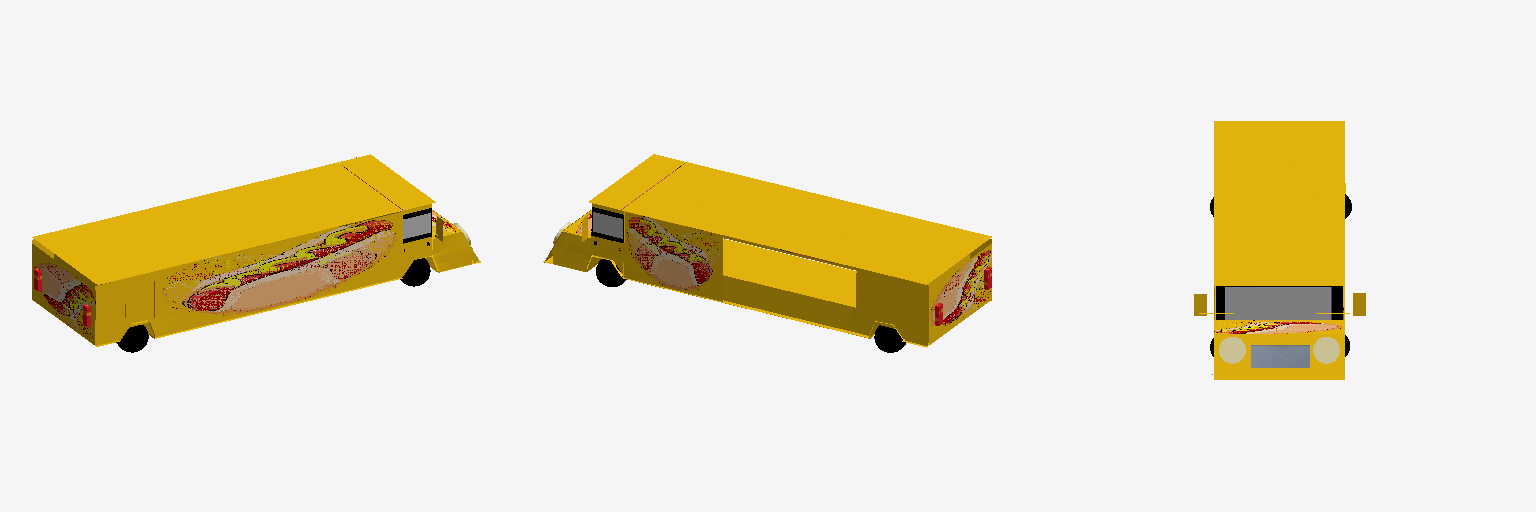
The picture shows the model from 3 angles: view 1: azimuth 30°, elevation 25°; view 2: azimuth 150°, elevation 25°; view 3: azimuth 270°, elevation 25°; orthographic projection.
Visible parts, largest first — view 1: Box015, Box010, Box049, Box046, Box028, Box042, Box027, Box048, Sphere004, Sphere002; view 2: Box015, Box054, Box001, Box049, Box011, Box046, Box041, Box028, Box026, Box047, Sphere005, Box036 (+1 smaller); view 3: Box015, Box021, Box049, Box025, Box028, Box024, Box050, Cylinder001, Cylinder002.
Boxes of the visible parts, box(x1,y1,x2,y2) form: Box015: box(91, 162, 402, 270); Box010: box(156, 212, 402, 336); Box049: box(32, 223, 155, 284); Box046: box(32, 244, 95, 344); Box028: box(338, 154, 435, 209); Box042: box(113, 268, 166, 327); Box027: box(401, 204, 431, 259); Box048: box(95, 280, 118, 345); Sphere004: box(116, 325, 148, 352); Sphere002: box(400, 258, 430, 286); Box015: box(622, 162, 933, 269); Box054: box(624, 212, 722, 301); Box001: box(622, 239, 868, 337); Box049: box(868, 223, 991, 284); Box011: box(639, 275, 870, 338); Box046: box(929, 244, 991, 344); Box041: box(856, 268, 912, 332); Box028: box(589, 154, 685, 209); Box026: box(591, 203, 623, 262); Box047: box(905, 282, 928, 345); Sphere005: box(874, 325, 905, 352); Box036: box(553, 247, 586, 271); Box015: box(1214, 149, 1344, 269); Box021: box(1216, 286, 1342, 319); Box049: box(1214, 121, 1344, 148); Box025: box(1214, 334, 1344, 379); Box028: box(1214, 270, 1344, 285); Box024: box(1214, 320, 1344, 333); Box050: box(1251, 345, 1309, 367); Cylinder001: box(1219, 337, 1245, 363); Cylinder002: box(1313, 337, 1339, 363).
Bounding box in the file's own units: 90.03 × 18.28 × 34.19.
Materials: 10 (8 with a texture image).